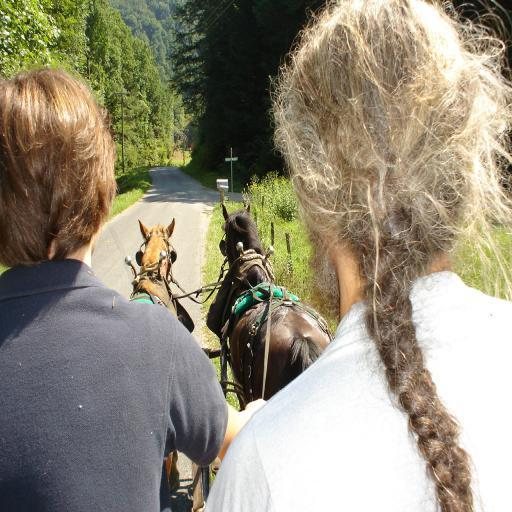horse: (205, 196, 333, 414), (126, 216, 184, 496)
